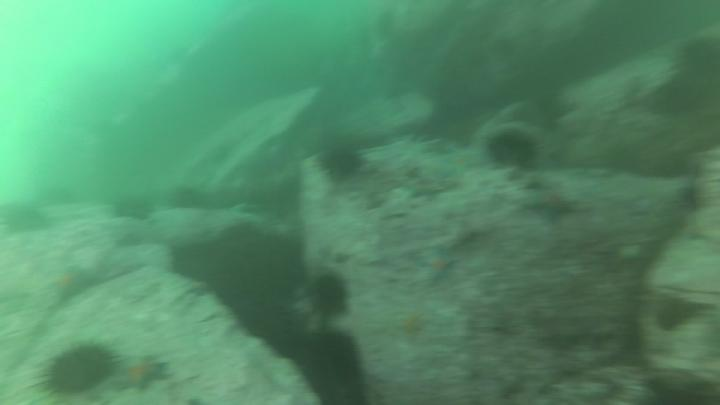echinus: (35, 341, 121, 401), (306, 331, 370, 402), (300, 269, 355, 322), (485, 129, 546, 174), (261, 309, 311, 362), (677, 32, 720, 91), (316, 143, 369, 185), (1, 202, 54, 236), (107, 197, 157, 222), (166, 185, 200, 212)
starfish: (112, 353, 176, 396), (528, 192, 593, 224), (421, 244, 463, 287), (404, 173, 460, 202), (424, 138, 459, 160), (185, 281, 218, 302)
